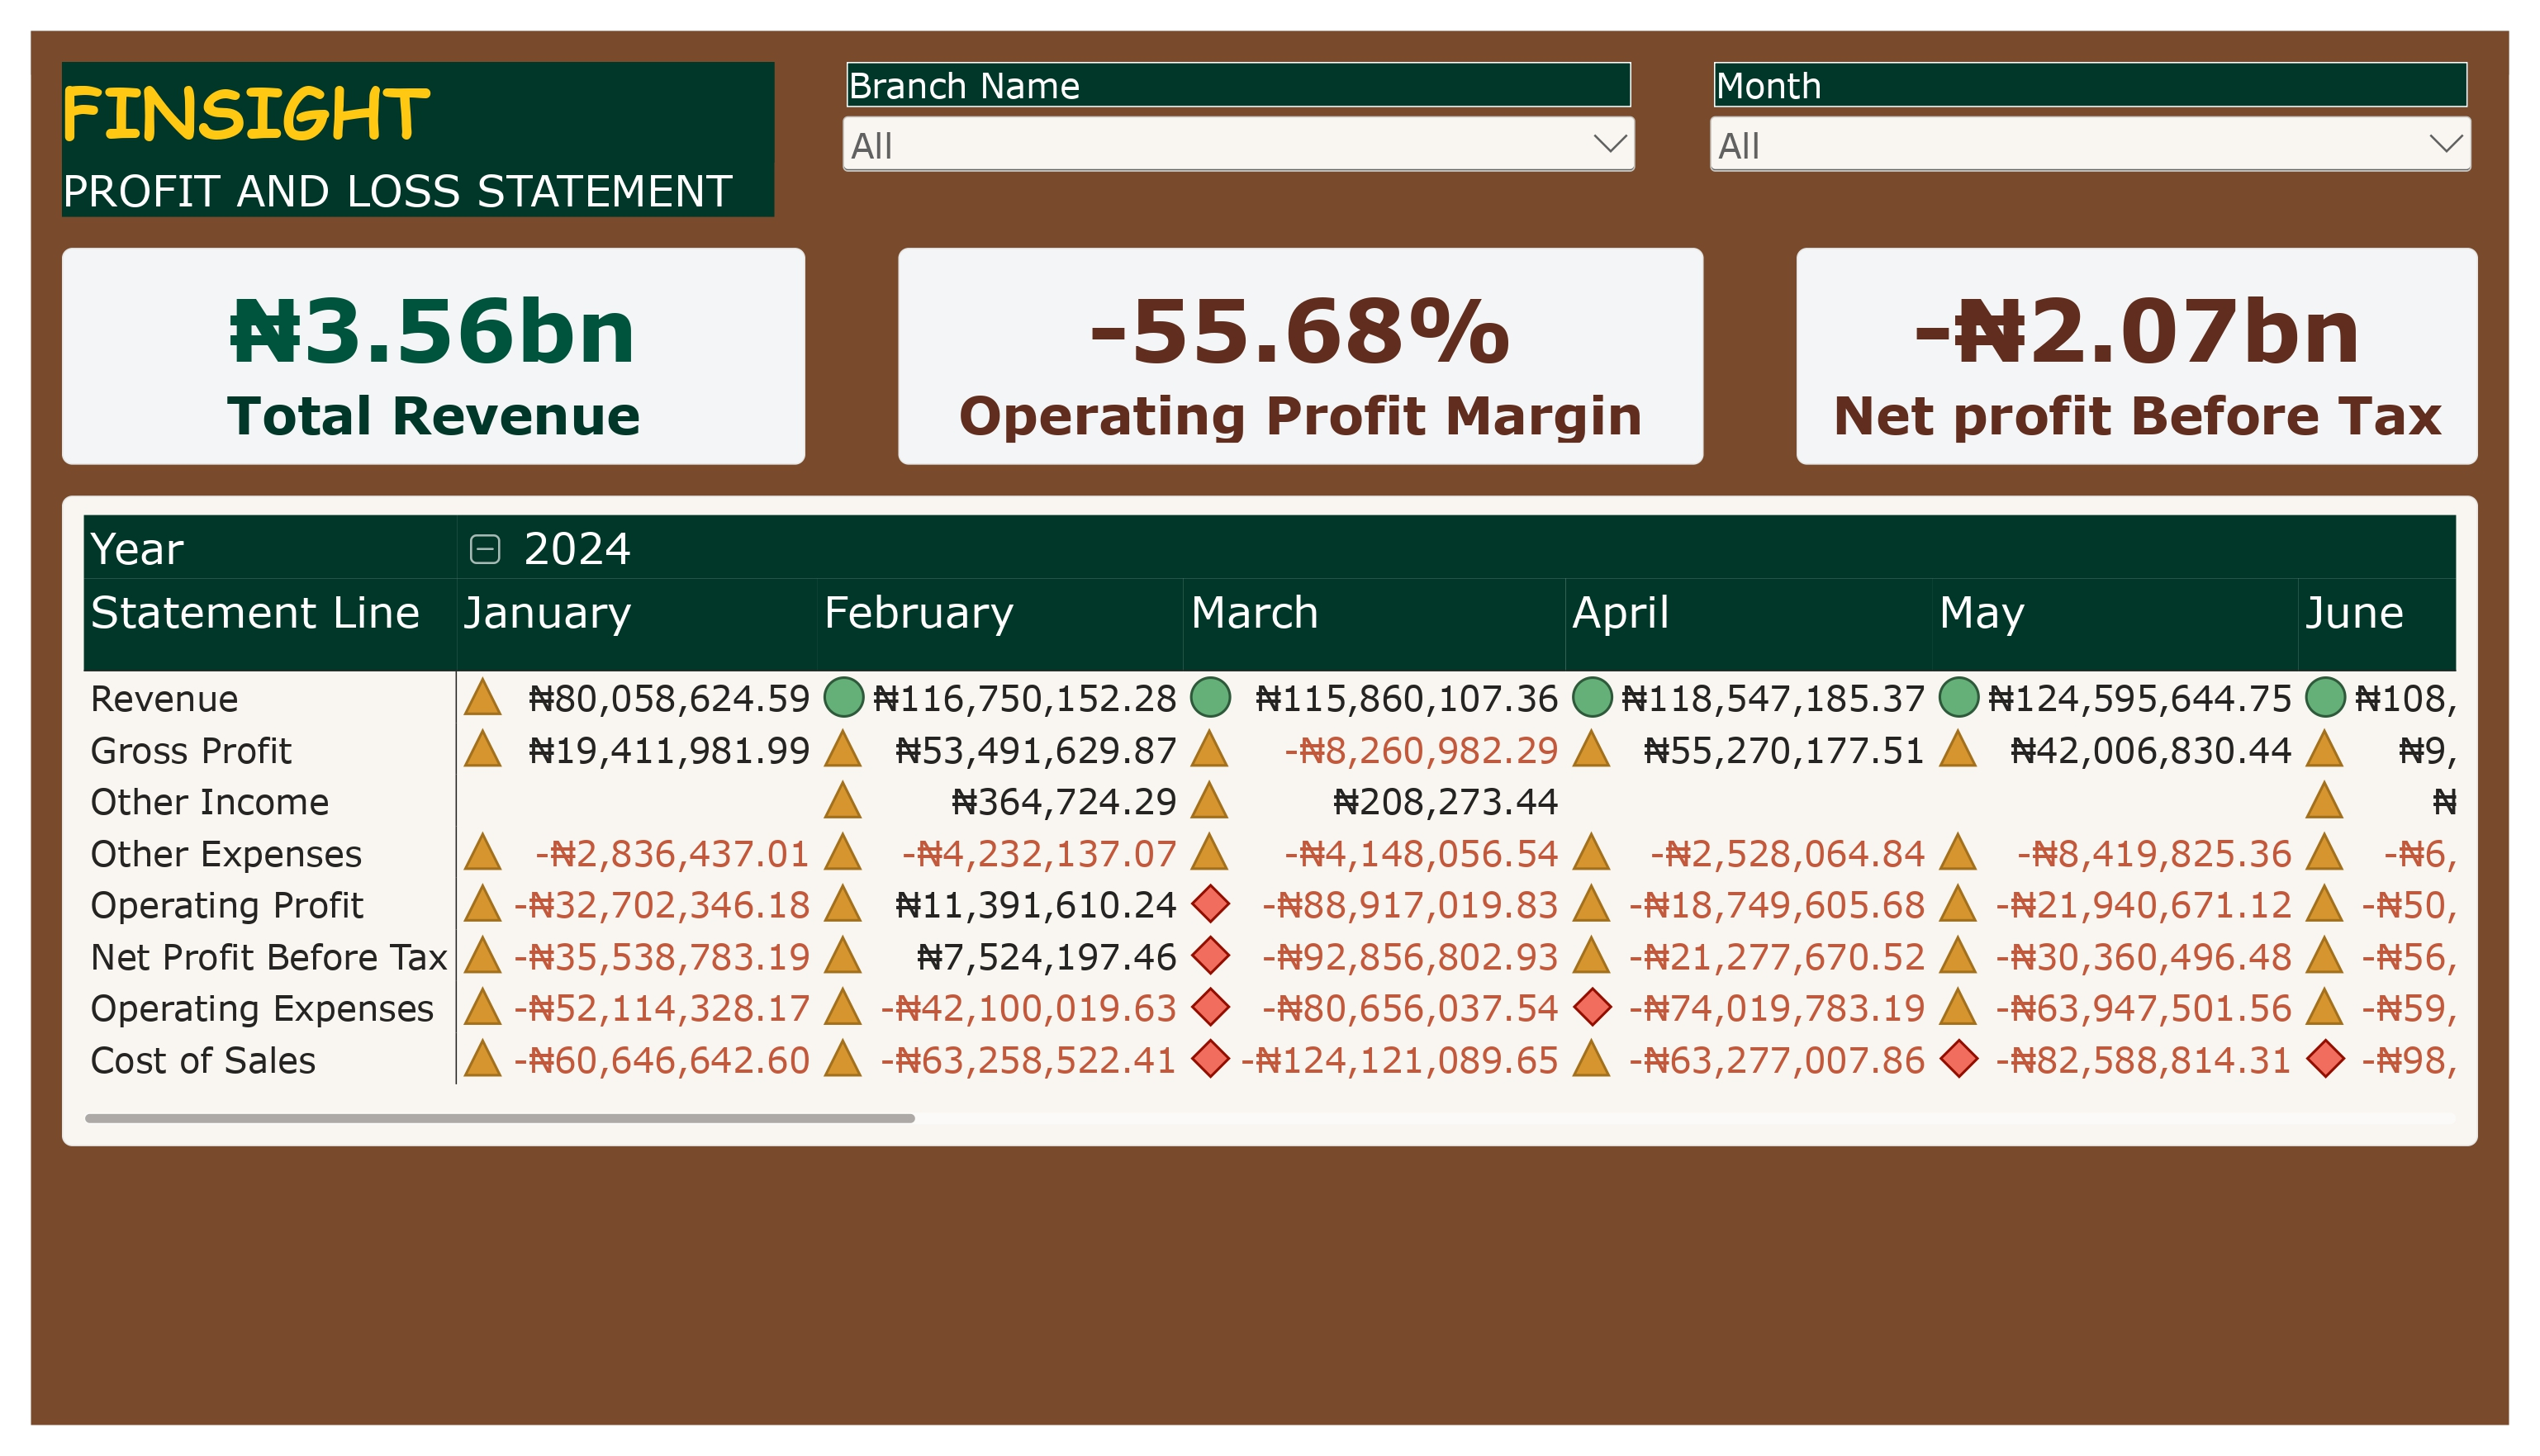

The page's visual inventory and layout, read from the dashboard file:
{"tool":"powerbi","page":{"name":"Profil and Loss Section","canvas":[1920,1080],"ordinal":0},"visuals":[{"type":"pivotTable","fields":{"Columns":["Date.Year","Date.Month"],"Rows":["PL Statement Layout.Statement Line"],"Values":["PL Statement Layout.P&L Statement Value"]},"box":[24,360,1872,504],"z":0},{"type":"slicer","fields":{"Values":["Branch.Branch Name"]},"box":[624,24,624,120],"z":1000},{"type":"slicer","fields":{"Values":["Date.Month"]},"box":[1296,24,600,96],"z":2000},{"type":"textbox","title":"FINSIGHT","box":[24,24,552,120],"z":3000},{"type":"card","fields":{"Values":["Dax Measures.Total Revenue"]},"box":[24,168,576,168],"z":4000},{"type":"card","fields":{"Values":["Dax Measures.Operating Profit Margin"]},"box":[672,168,624,168],"z":5000},{"type":"card","fields":{"Values":["Dax Measures.Net profit"]},"box":[1368,168,528,168],"z":6000}]}

Visuals, with their boxes on the page's 1920x1080 design canvas (x1, y1, x2, y2). These are canvas units, not pixel positions in the 2540x1456 screenshot, which may show the page scaled, cropped or inside an application window:
pivotTable - Date.Year x Date.Month: <bbox>24, 360, 1896, 864</bbox>
slicer - Branch.Branch Name: <bbox>624, 24, 1248, 144</bbox>
slicer - Date.Month: <bbox>1296, 24, 1896, 120</bbox>
"FINSIGHT" textbox: <bbox>24, 24, 576, 144</bbox>
card - Dax Measures.Total Revenue: <bbox>24, 168, 600, 336</bbox>
card - Dax Measures.Operating Profit Margin: <bbox>672, 168, 1296, 336</bbox>
card - Dax Measures.Net profit: <bbox>1368, 168, 1896, 336</bbox>
